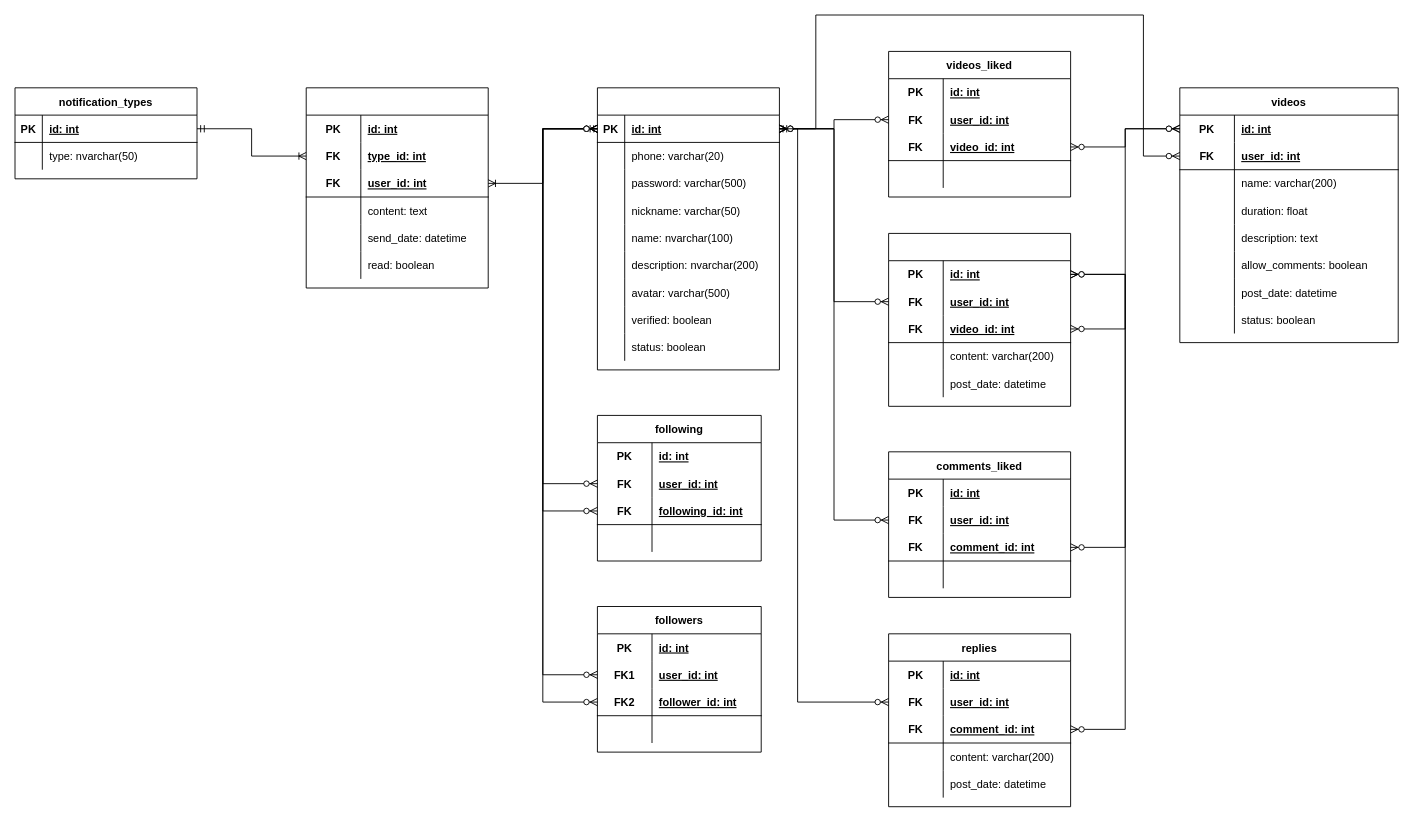
The diagram is 1413 pixels wide and 822 high, and some of its shapes have lost their labels. The box of each missing label's shape, as (x1, y1, x2, y2) in pixels:
comments: (888, 233, 1071, 406)
notifications: (305, 87, 488, 288)
users: (597, 87, 779, 370)
